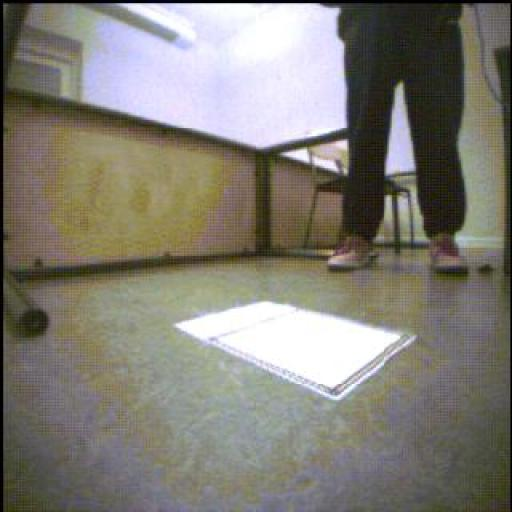Pad: (177, 303, 417, 401)
